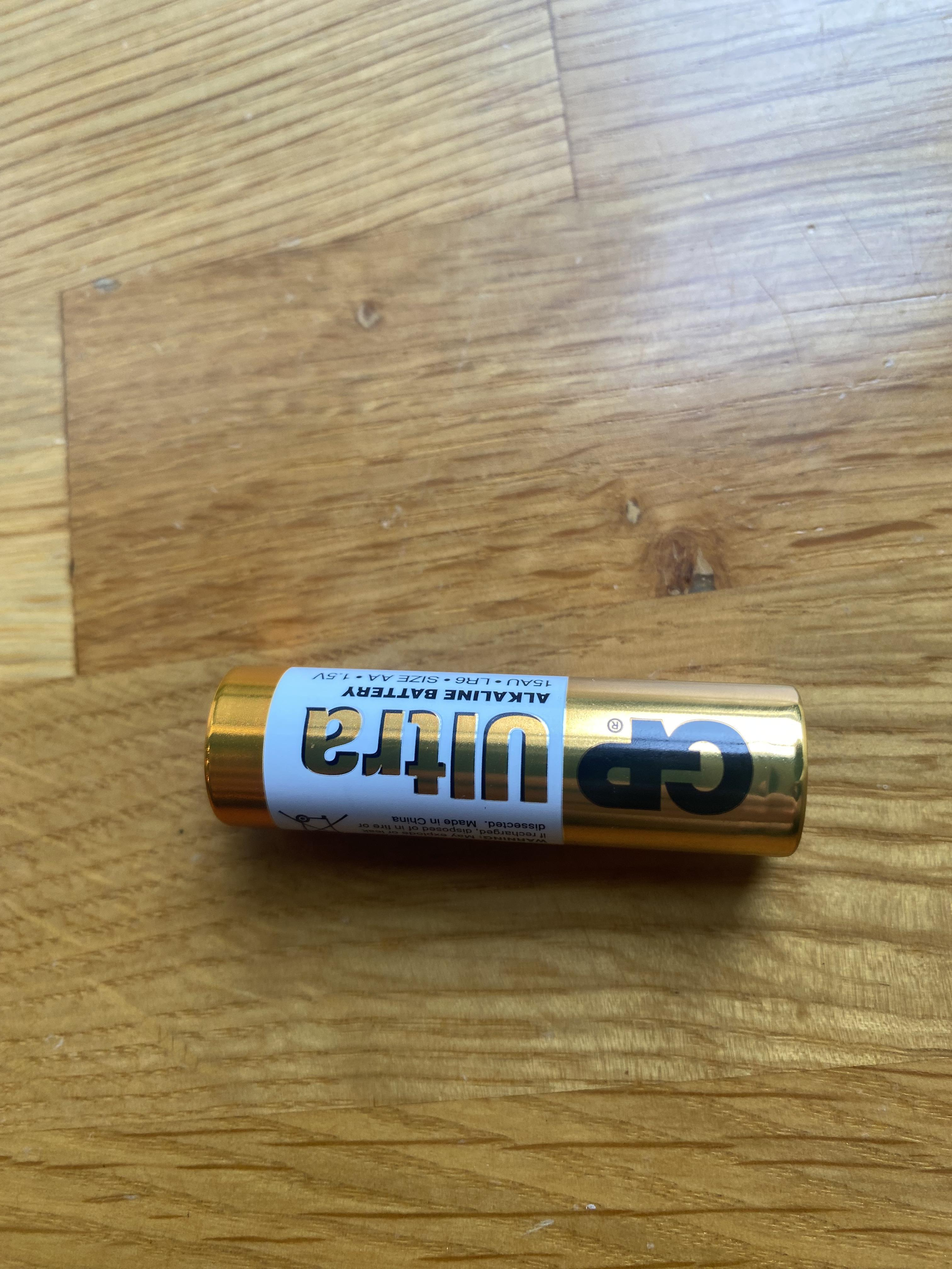AA: (197, 656, 818, 864)
